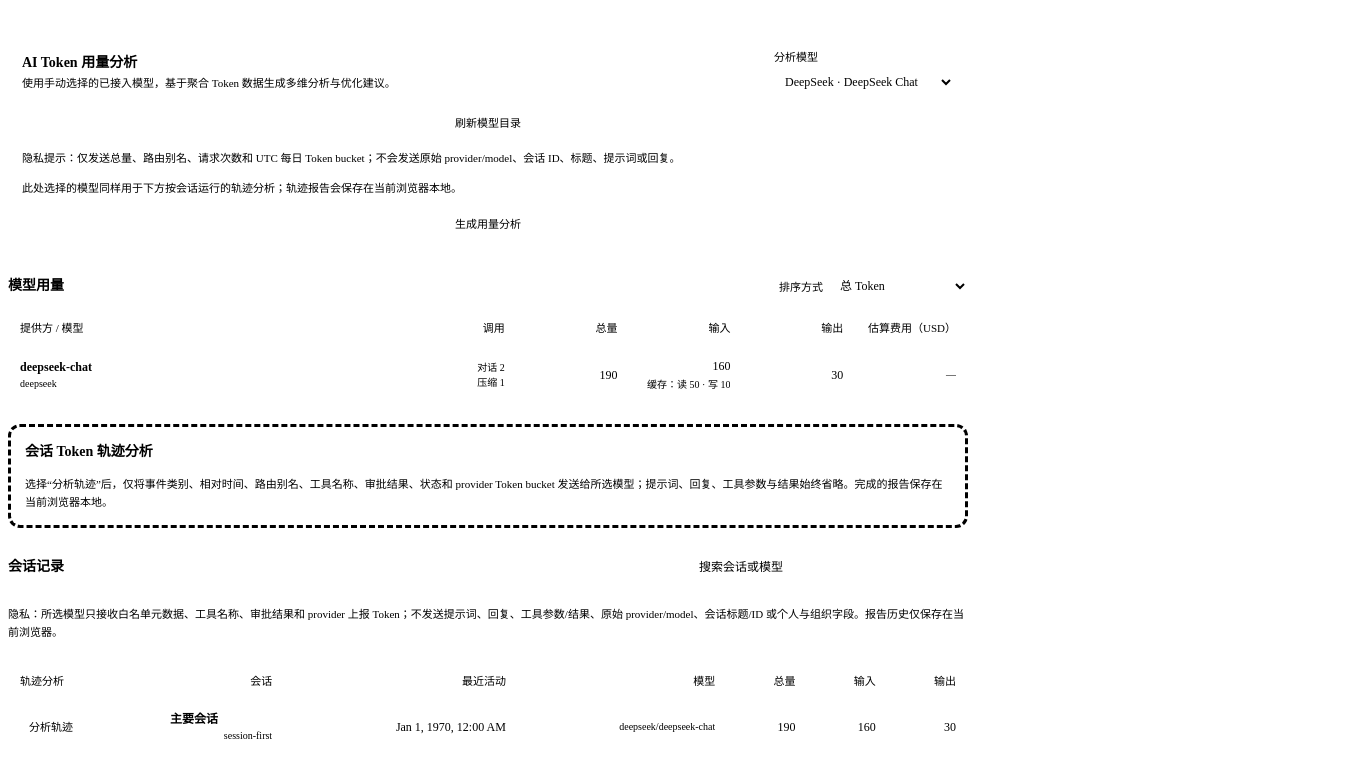
TokenUsageSection › retains legacy approval ask and reject counts while marking v3 audit fields unavailable
(page scrolled)
Expected: the dropdown labelled "分析模型" is shown, [774,69,954,95]
Click the button "分析轨迹" at (51, 727), box [20,713,82,741]
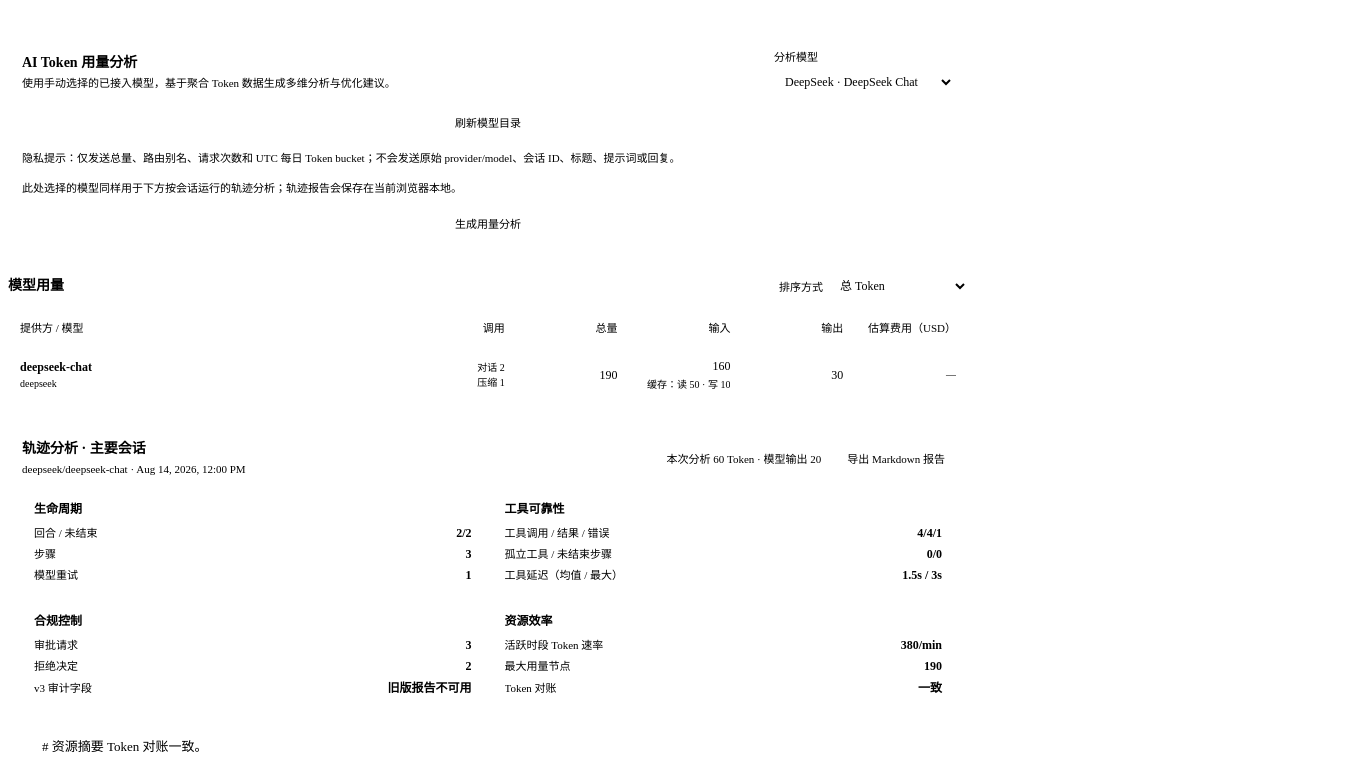
Expected: the text "审批请求" is shown, [34,636,78,652]
Expected: the text "3" in the row of "审批请求" is shown, [466,638,472,652]
Expected: the text "拒绝决定" is shown, [34,657,78,673]
